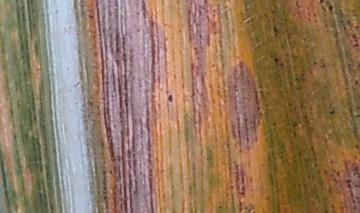tarspot: (351, 34, 359, 48), (272, 25, 280, 37), (166, 94, 174, 103), (327, 108, 336, 115), (320, 6, 328, 13), (329, 3, 334, 12), (273, 56, 279, 63), (319, 1, 325, 6), (354, 79, 359, 85)
